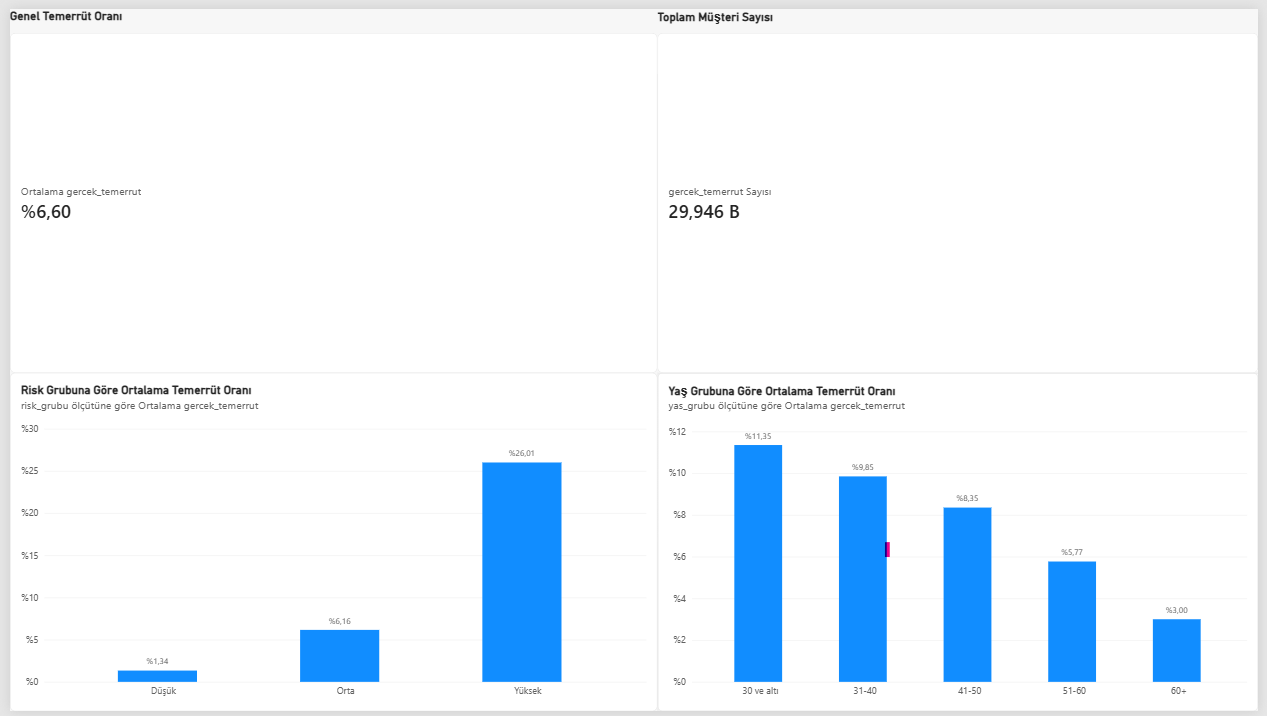

This screenshot's page, from the dashboard's own definition file:
{"tool":"powerbi","page":{"name":"1. sayfa","canvas":[1920,1080],"ordinal":0},"visuals":[{"type":"clusteredColumnChart","title":"Risk Grubuna Göre Ortalama Temerrüt Oranı","fields":{"Category":["model-sonuclari.risk_grubu"],"Y":["Avg(model-sonuclari.gercek_temerrut)"]},"box":[0,559.9,996.2,520.8],"z":0},{"type":"clusteredColumnChart","title":"Yaş Grubuna Göre Ortalama Temerrüt Oranı","fields":{"Category":["model-sonuclari.yas_grubu"],"Y":["Avg(model-sonuclari.gercek_temerrut)"]},"box":[996.2,559.9,924.2,520.8],"z":1000},{"type":"cardVisual","title":"Genel Temerrüt Oranı","fields":{"Data":["Avg(model-sonuclari.gercek_temerrut)"]},"box":[0,0,996.2,559.9],"z":2000},{"type":"cardVisual","title":"Toplam Müşteri Sayısı","fields":{"Data":["CountNonNull(model-sonuclari.gercek_temerrut)"]},"box":[996.2,0,924.2,559.9],"z":2001}]}

Visuals, with their boxes in screenshot pixels (x1, y1, x2, y2), scaled from the page's 1920x1080 canvas onto the 1267x716 screenshot:
"Risk Grubuna Göre Ortalama Temerrüt Oranı" clusteredColumnChart: (x1=0, y1=371, x2=657, y2=715)
"Yaş Grubuna Göre Ortalama Temerrüt Oranı" clusteredColumnChart: (x1=657, y1=371, x2=1266, y2=715)
"Genel Temerrüt Oranı" cardVisual: (x1=0, y1=0, x2=657, y2=371)
"Toplam Müşteri Sayısı" cardVisual: (x1=657, y1=0, x2=1266, y2=371)
